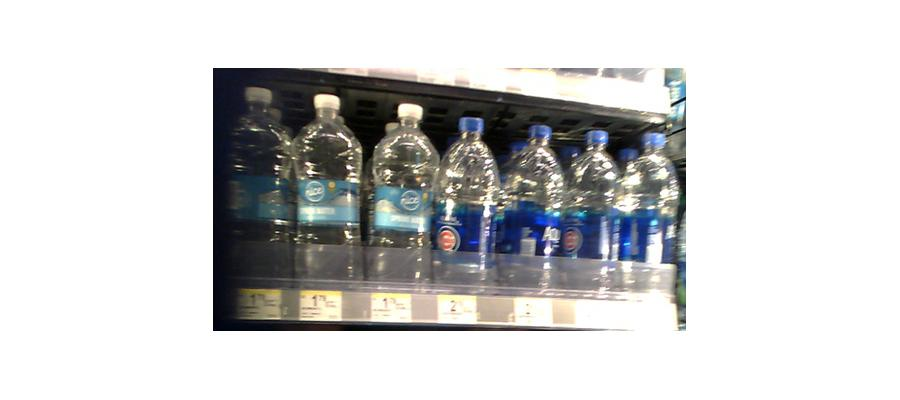bottle: (363, 102, 435, 290), (293, 93, 361, 288), (230, 88, 290, 294), (497, 115, 563, 295), (434, 114, 499, 292), (567, 122, 618, 299), (622, 131, 674, 298)
